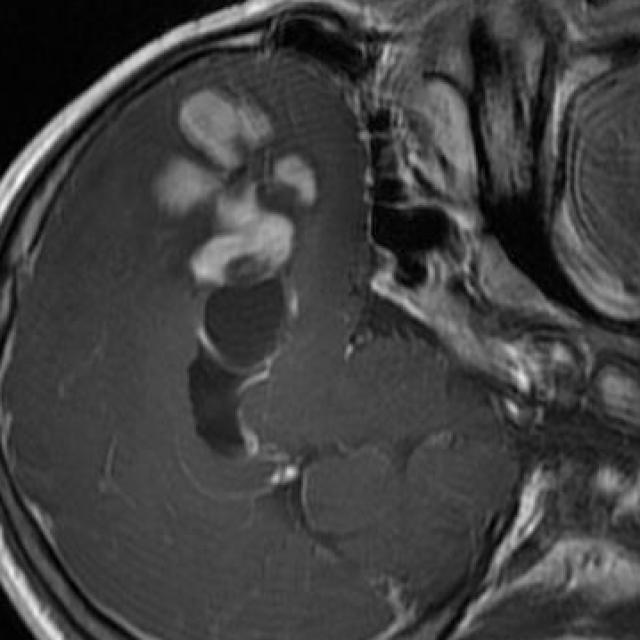glioma: (153, 87, 317, 460)
